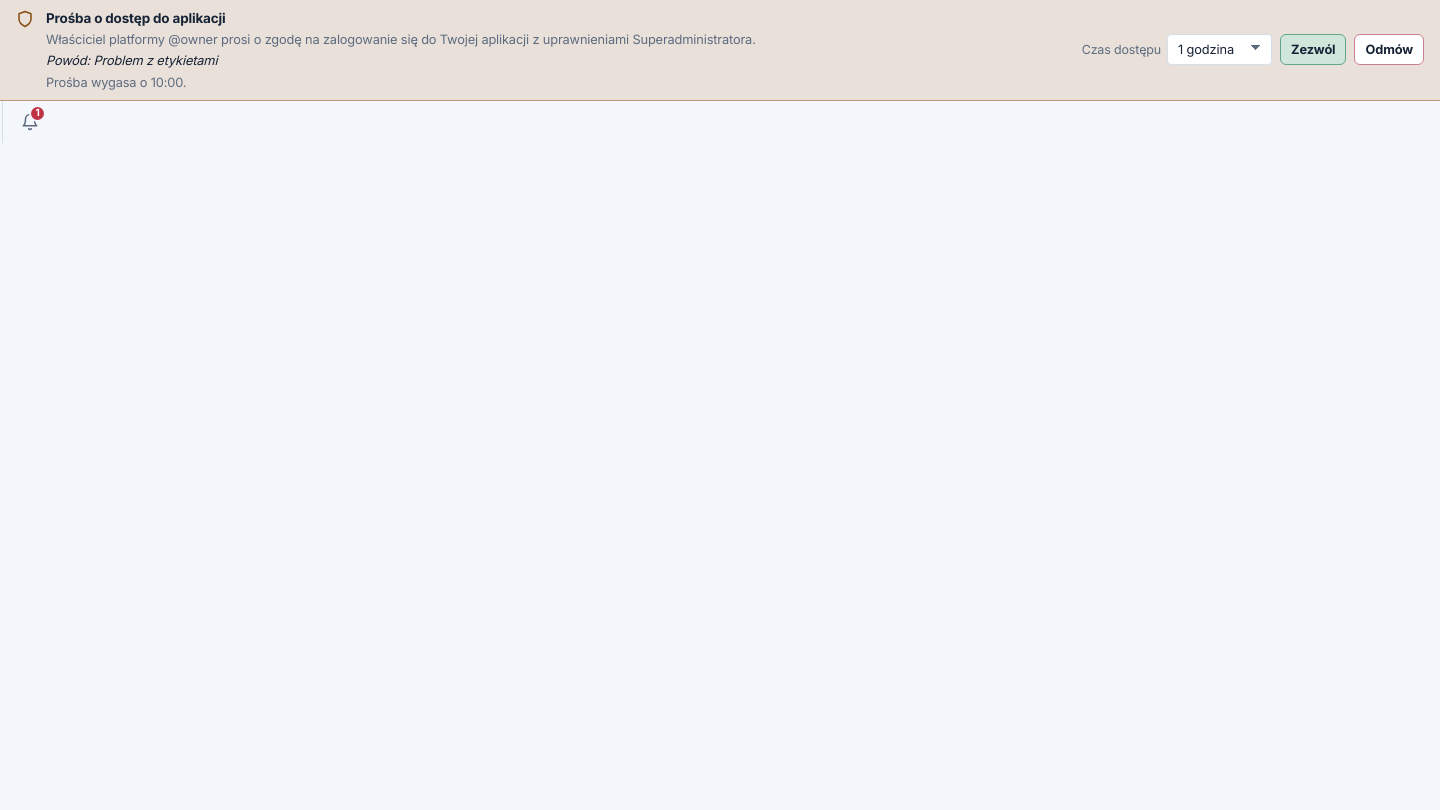
Test: ImpersonationConsentBanner › lists requests in the notifications popover
The width and height of the screenshot is (1440, 810).
Click the button "1" at (26, 122), box [2,101,50,143]
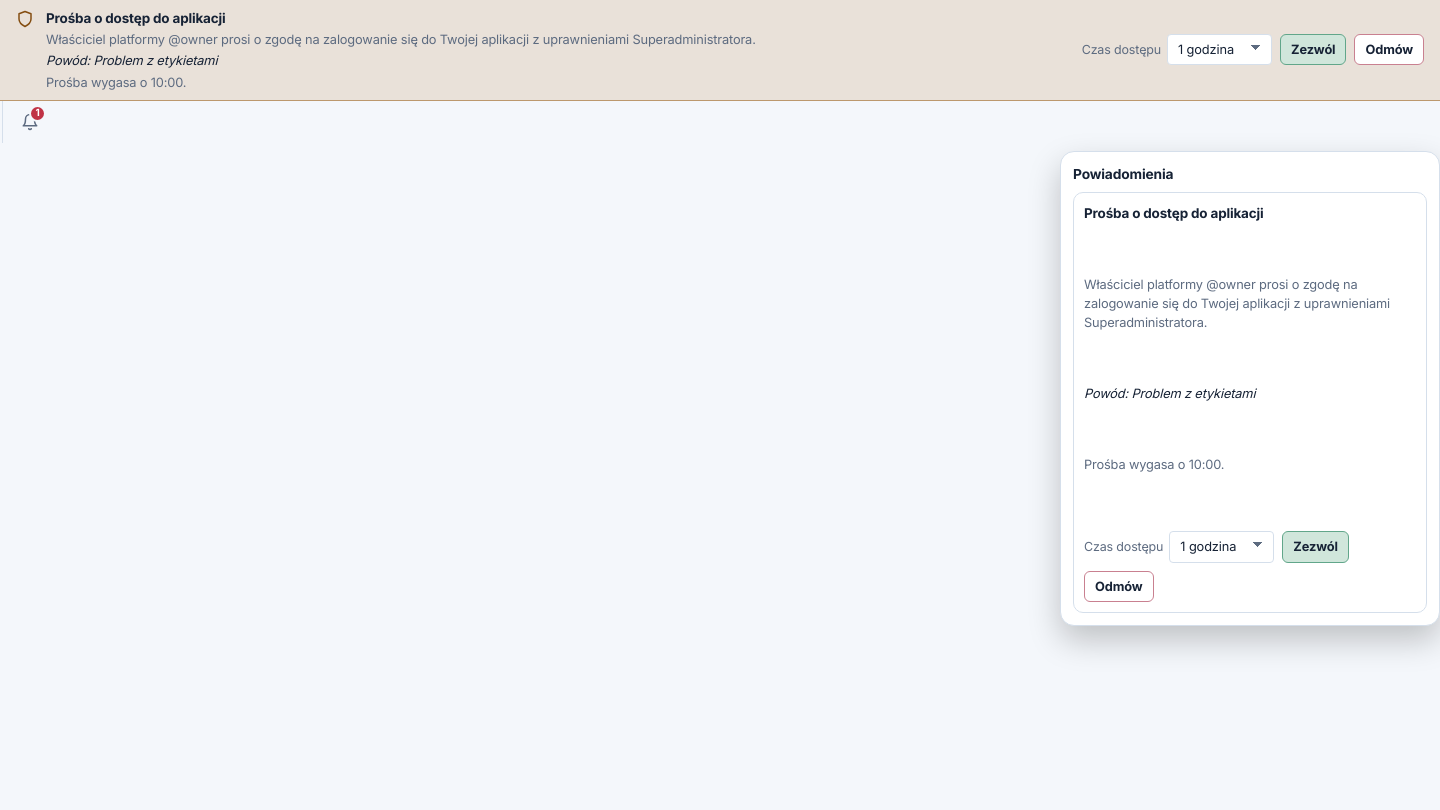
Result: the dialog "Powiadomienia" is shown at [1060,151,1439,626]
Result: the number of buttons "Zezwól" is 2 at [1280,34,1346,66]; [1282,531,1349,563]
